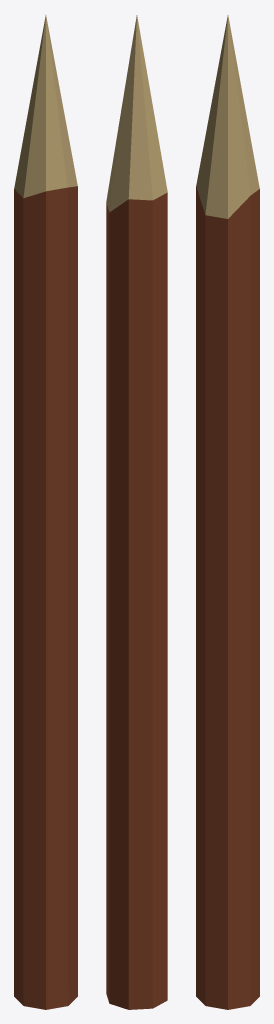
File: spike.glb
3 views of the same model, side by side, from view 1: azimuth 90°, elevation 25°; view 2: azimuth 210°, elevation 25°; view 3: azimuth 270°, elevation 25° (orthographic).
Parts seen in each view (by area): view 1: Cylinder; view 2: Cylinder; view 3: Cylinder.
Part boxes in pixels (x1=…): Cylinder: x1=14, y1=15, x2=77, y2=1009; Cylinder: x1=106, y1=15, x2=167, y2=1009; Cylinder: x1=196, y1=15, x2=259, y2=1009.
Size of the model in its own units: 2 by 34.04 by 2.
